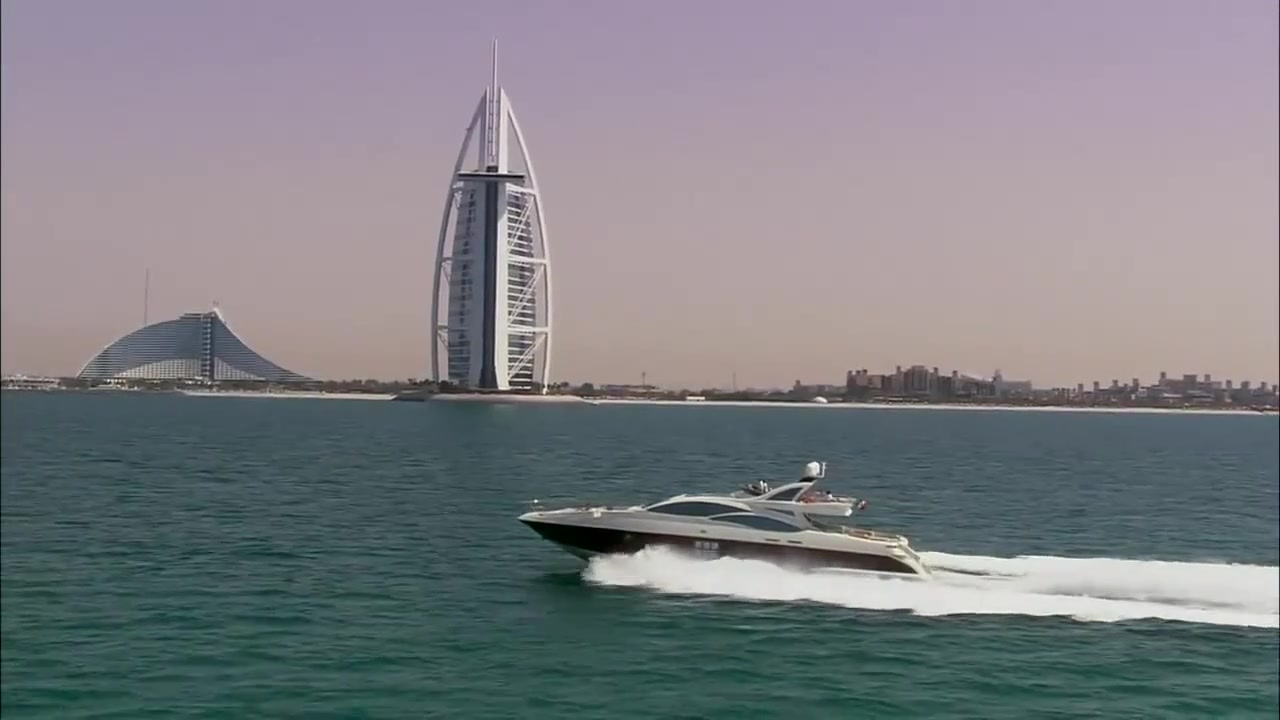boat: (517, 453, 934, 595), (390, 386, 448, 406)
